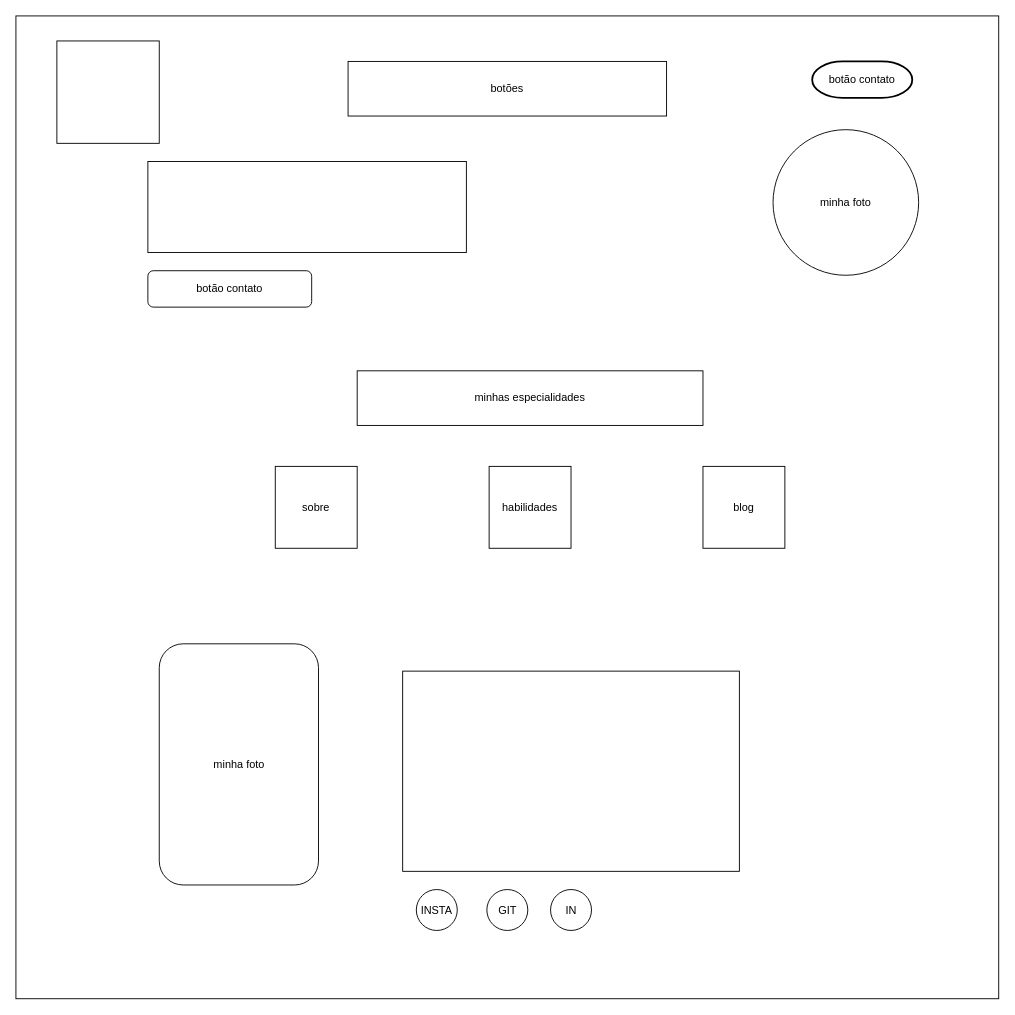
This 1015x1015 diagram has some shape labels left out. Here are the shapes that lost their labels. From the top down, the centre of each, then its label:
At pixel 107 91: "logo".
At pixel 306 207: "apresentação".
At pixel 570 770: "sobre mim".
